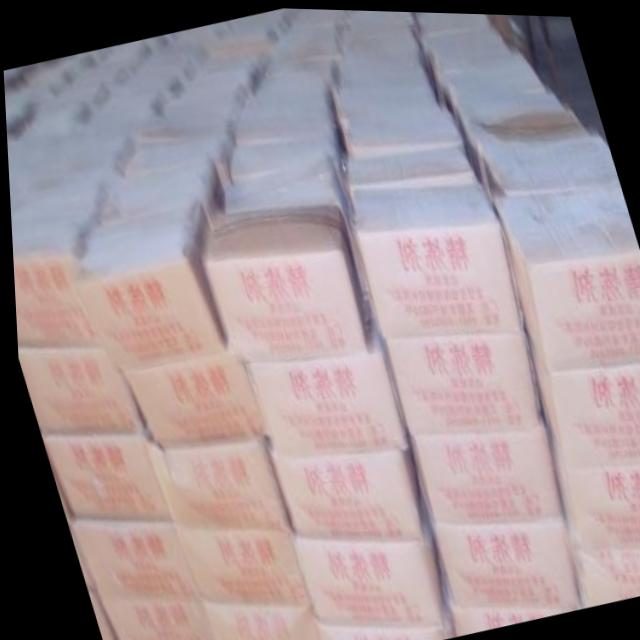box: (487, 181, 640, 369), (240, 290, 404, 457), (70, 199, 225, 370), (352, 183, 523, 335), (201, 203, 364, 361), (289, 494, 437, 627), (380, 330, 540, 434), (260, 433, 417, 537), (404, 420, 557, 521), (139, 426, 285, 531), (121, 344, 263, 449), (524, 333, 640, 459), (424, 514, 577, 606), (454, 88, 585, 192), (9, 211, 101, 347), (541, 422, 640, 542), (308, 557, 448, 640), (14, 344, 140, 436), (168, 524, 305, 608), (38, 431, 165, 521), (65, 519, 191, 600), (222, 156, 347, 228), (481, 128, 618, 192), (330, 79, 452, 146), (345, 144, 476, 205), (439, 578, 574, 634), (557, 514, 640, 605), (95, 159, 222, 218), (227, 135, 340, 184), (194, 595, 314, 640), (344, 119, 468, 159), (95, 597, 210, 640), (443, 61, 547, 108), (123, 140, 230, 185), (82, 588, 110, 640)
